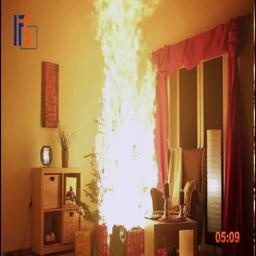fire: (78, 0, 174, 236)
